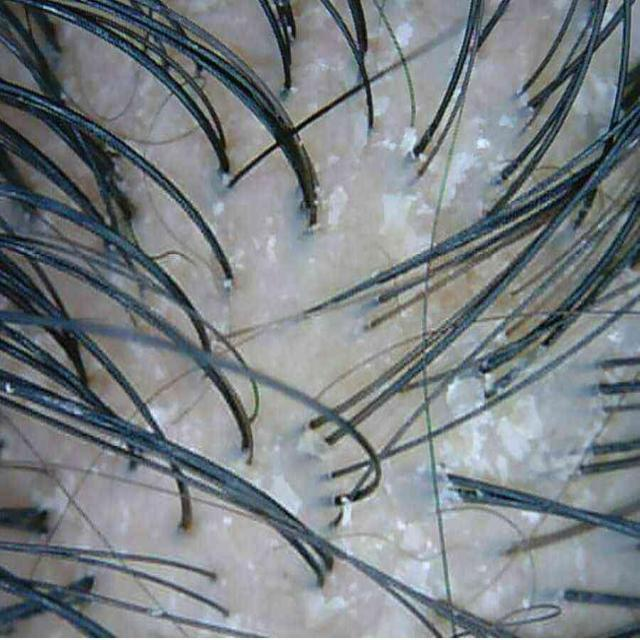d: (270, 474, 302, 515), (328, 185, 349, 226), (400, 126, 418, 155), (395, 21, 414, 47), (340, 497, 352, 527), (476, 137, 490, 149)
ds: (496, 395, 544, 462), (459, 412, 498, 473), (442, 151, 476, 206), (380, 192, 419, 235), (446, 376, 485, 418)
